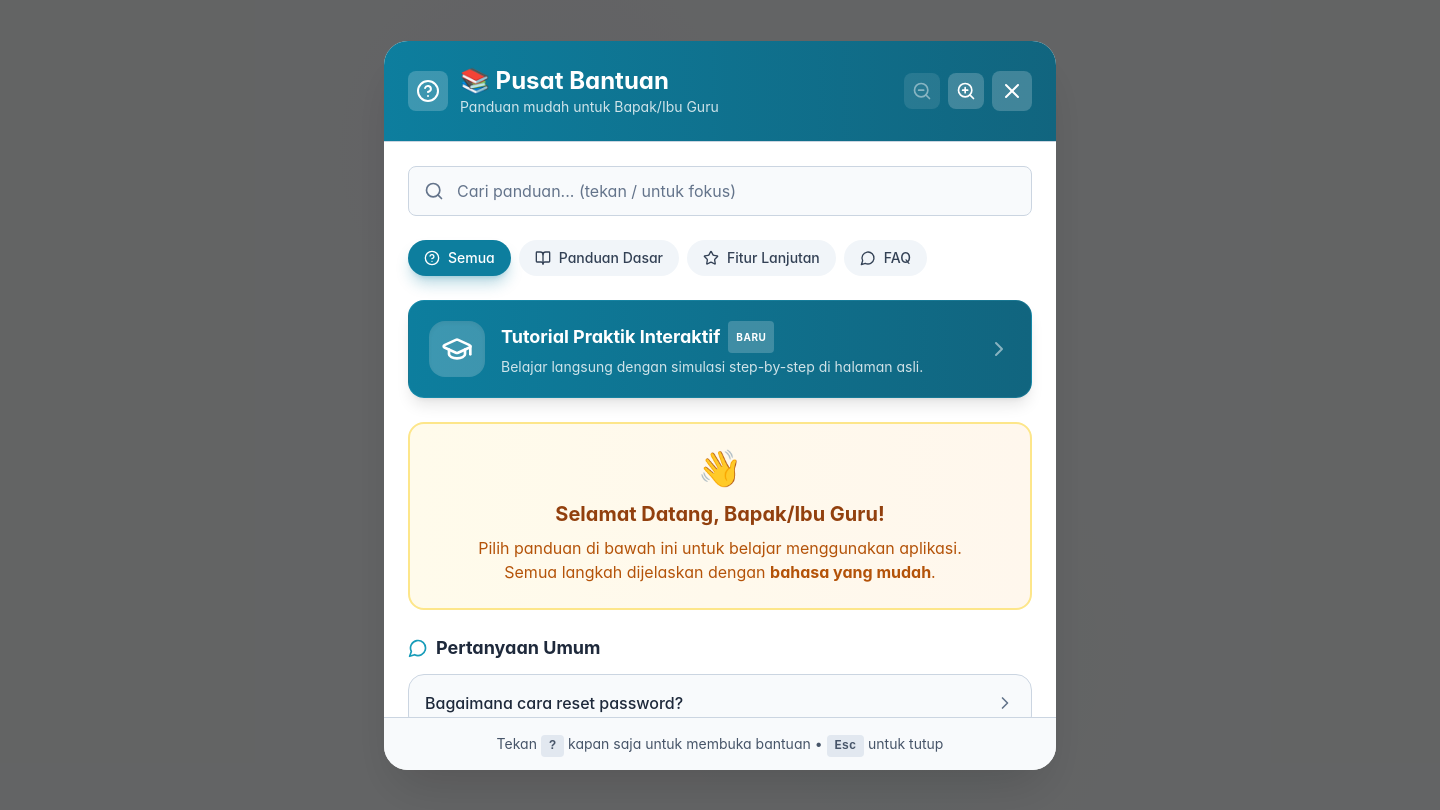
SimpleHelpCenter and FloatingHelpButton › filters guides by search keyword and allows viewing a guide
Type "Absensi" into the field with placeholder "Cari panduan... (tekan / untuk fokus)" at {"x": 720, "y": 190}, box 408,166 -> 1032,216
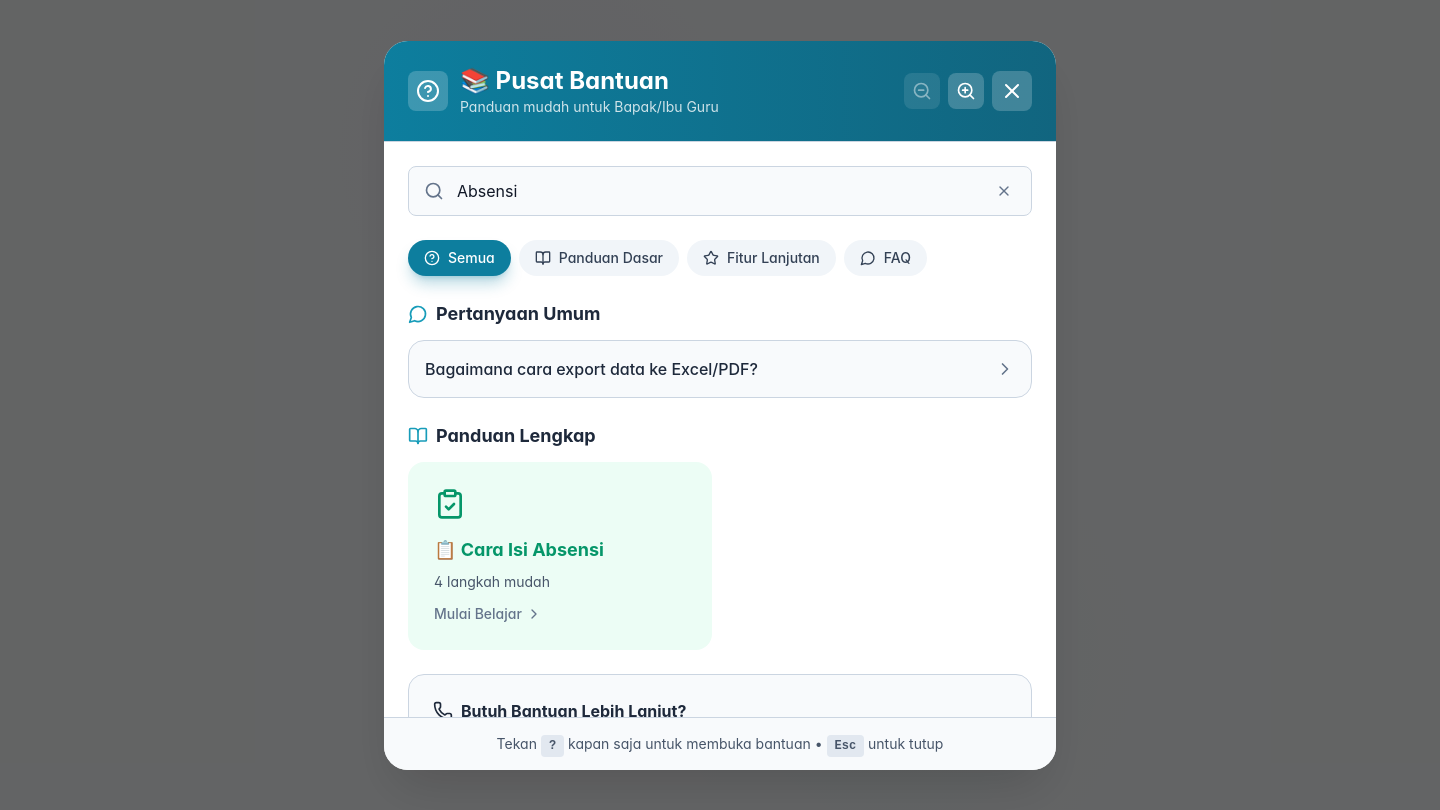
Now the heading "📋 Cara Isi Absensi" is shown
Note: Click on the guide to open detail view
Click the heading "📋 Cara Isi Absensi" at {"x": 519, "y": 549}, box 434,538 -> 604,560
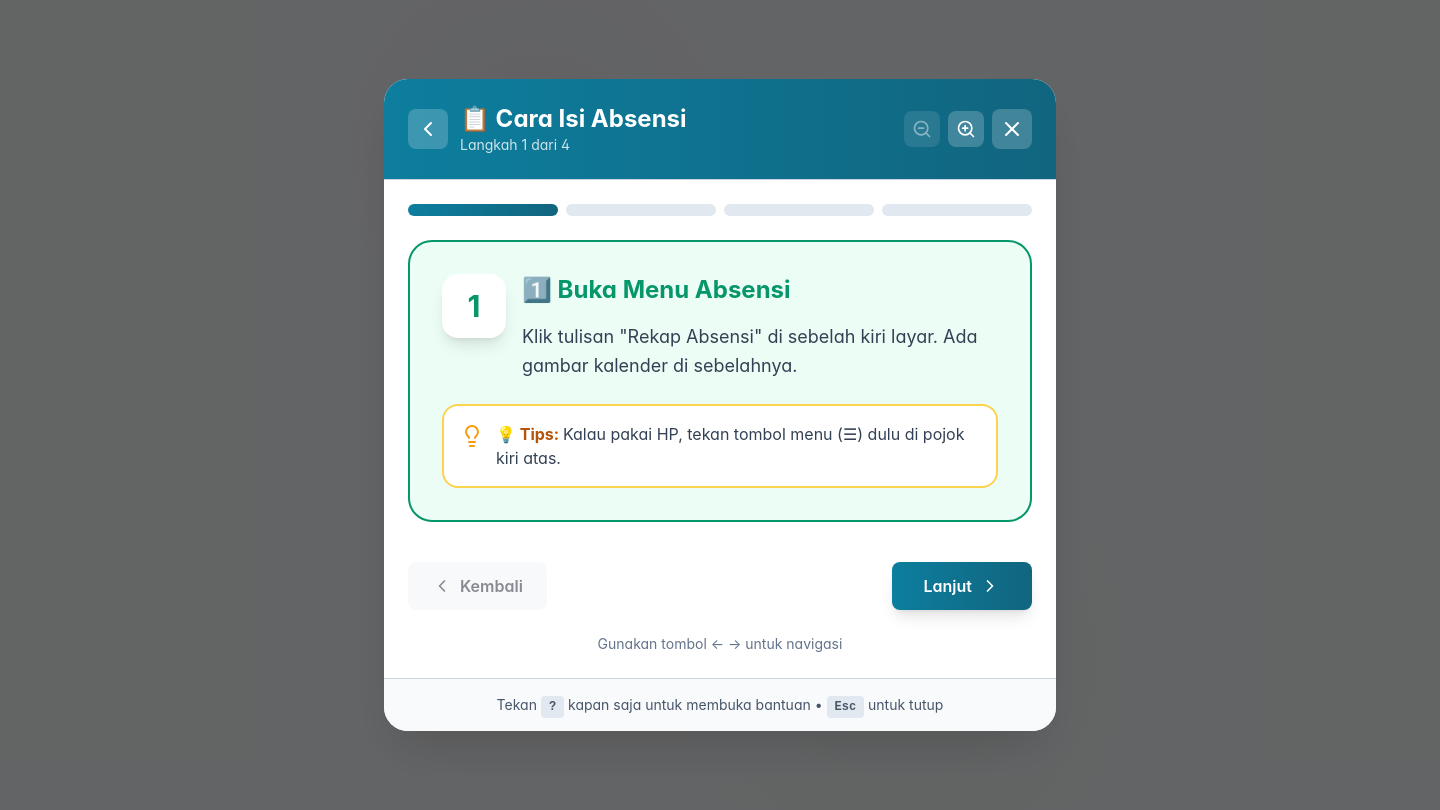
Now the text "Langkah 1 dari 4" is shown, box 460,136 -> 570,153
